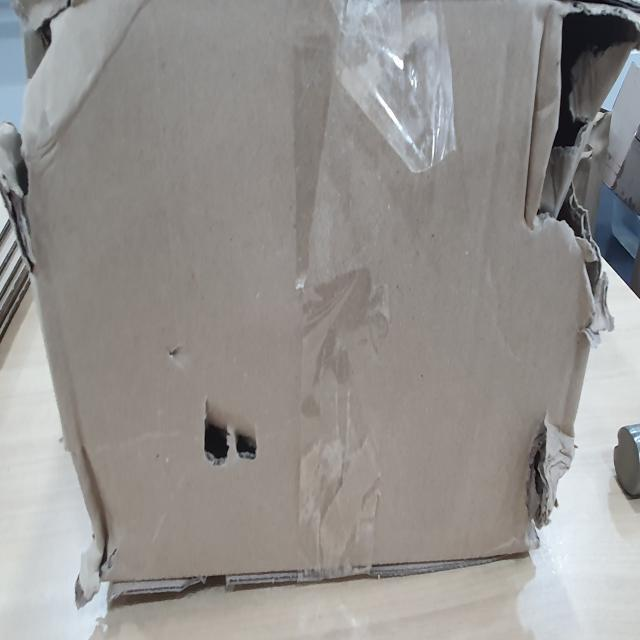hole: (529, 0, 635, 301), (12, 0, 49, 264), (520, 412, 578, 559), (197, 389, 263, 480)
